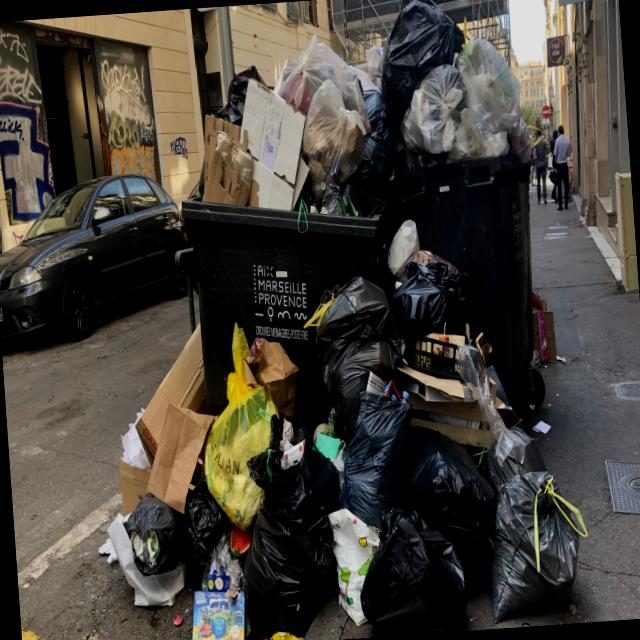garbage: (169, 29, 594, 638)
